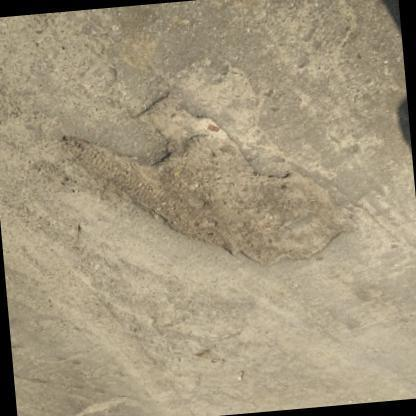pothole: (60, 88, 348, 265)
